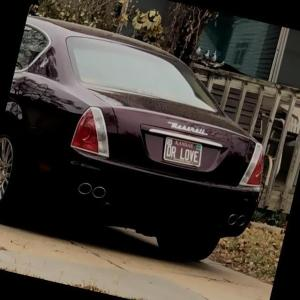Plate: (163, 137, 202, 167)
